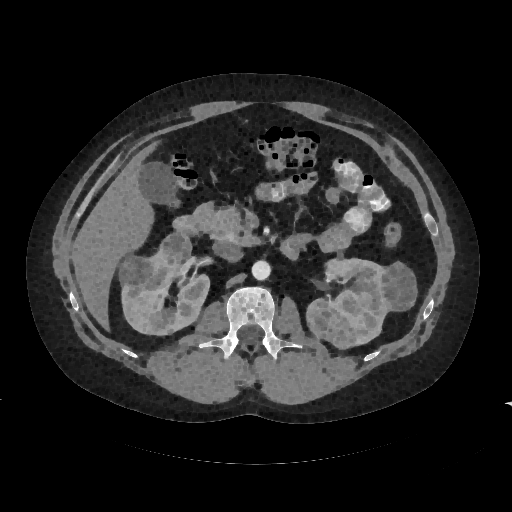Lesion: (373, 259, 422, 315), (113, 252, 156, 291)
